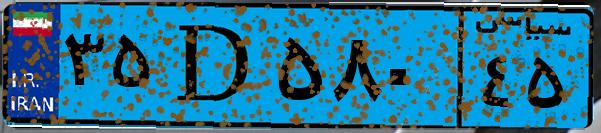0: (385, 28, 445, 110)
3: (57, 26, 110, 100)
4: (475, 38, 525, 113)
5: (270, 28, 330, 110), (525, 38, 570, 115), (110, 28, 158, 98)
8: (330, 28, 385, 110)
D: (158, 12, 270, 120)
